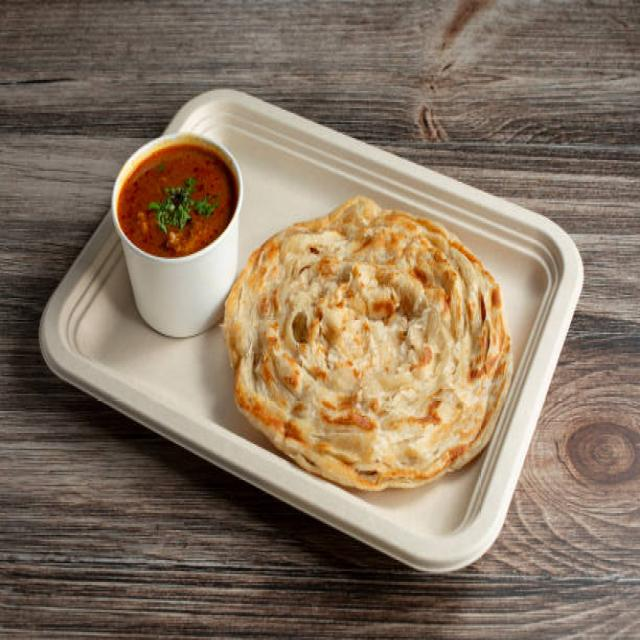CURRY: (117, 144, 237, 257)
PAROTTA: (225, 198, 508, 485)
